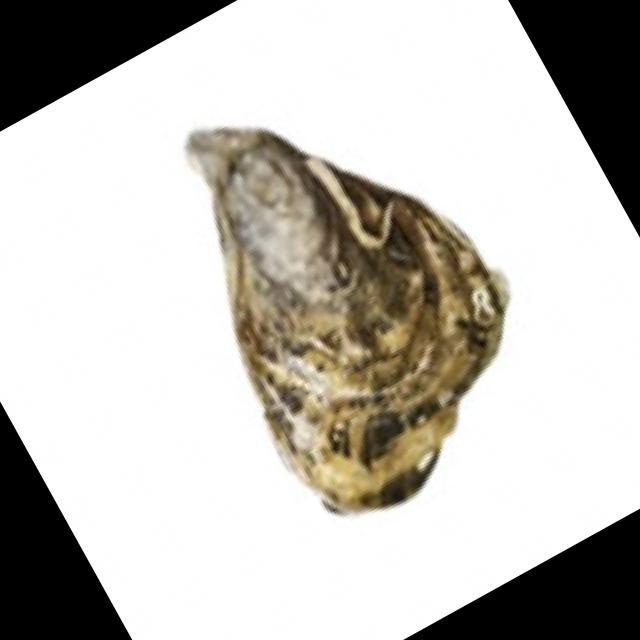Oyster- Indeterminate: (185, 127, 510, 515)
